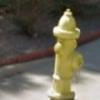a fire hydrant: (48, 9, 83, 100)
